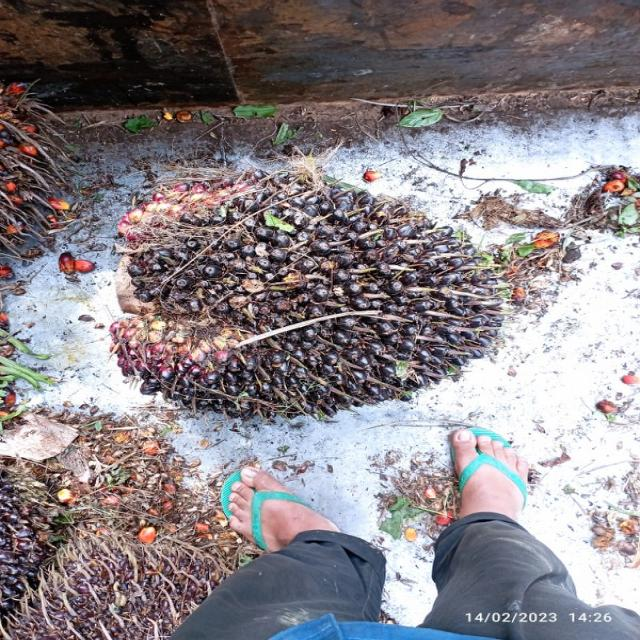fraksi 00: (114, 171, 512, 427)
